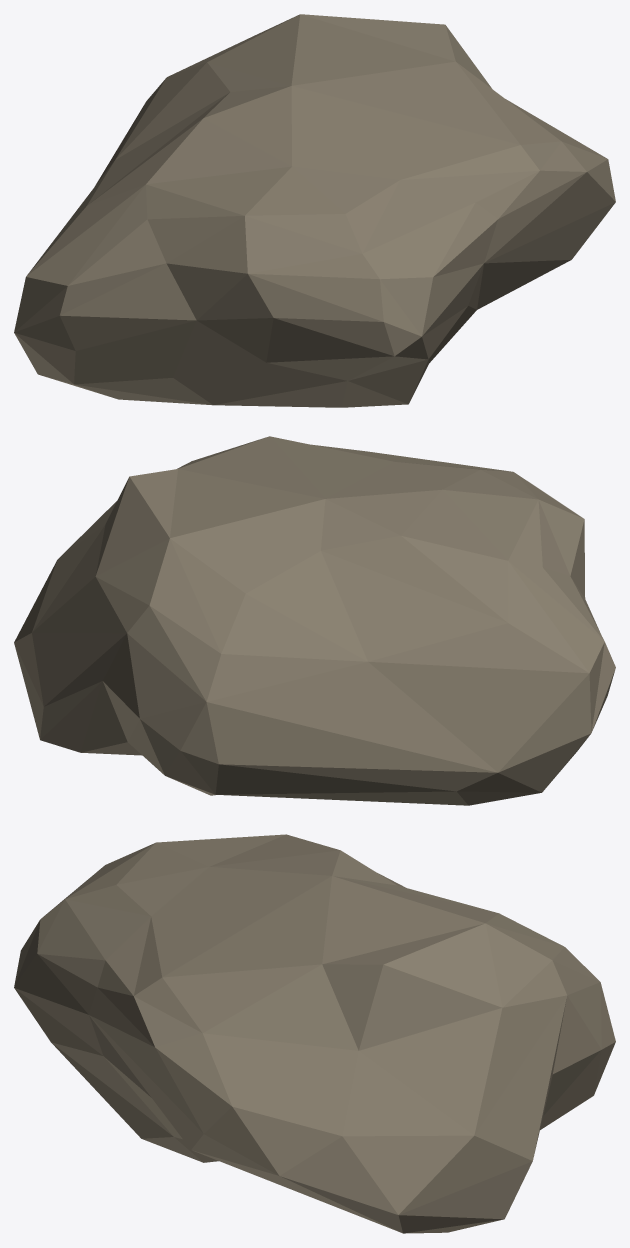
The model's file is P_Pedra2.fbx.
3 views of the same model, one above another, from view 1: azimuth 30°, elevation 25°; view 2: azimuth 150°, elevation 25°; view 3: azimuth 270°, elevation 25° (orthographic). The views are drawn at different scales.
Parts seen in each view (by area): view 1: Sphere; view 2: Sphere; view 3: Sphere.
Boxes of the visible parts, x1,y1,x2,y2 form: Sphere: (14,14,615,407); Sphere: (14,436,615,805); Sphere: (14,834,615,1233).
Size of the model in its own units: 915 by 419 by 839.
